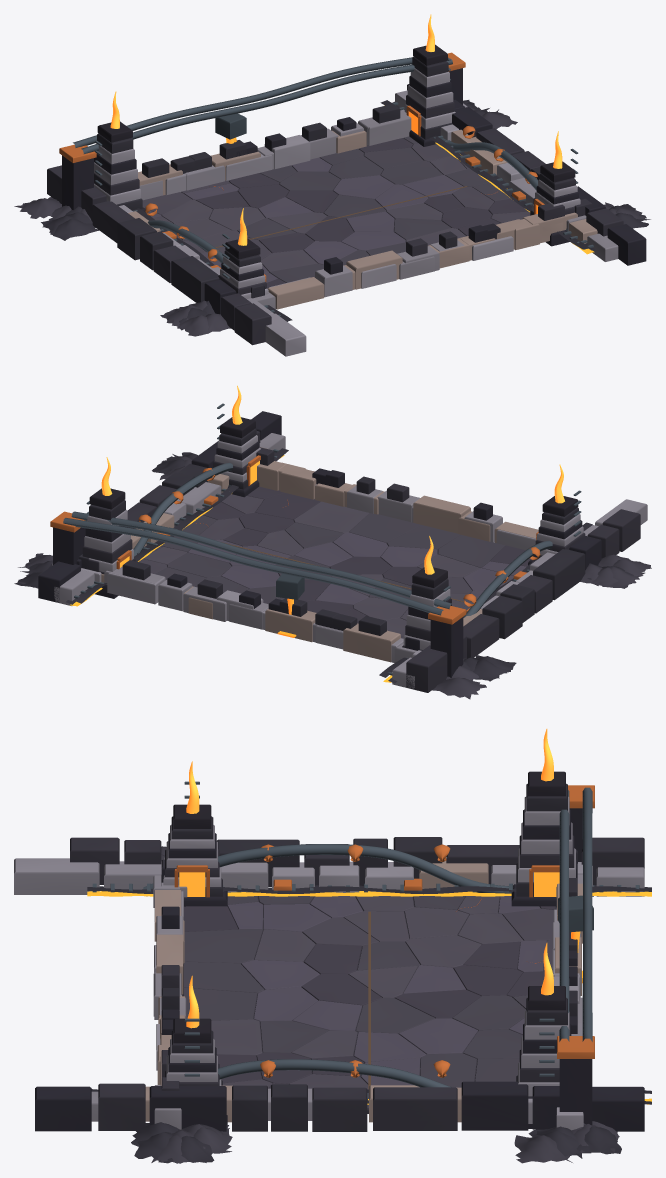
3 renders of one model, top to bottom at view 1: azimuth 30°, elevation 25°; view 2: azimuth 150°, elevation 25°; view 3: azimuth 270°, elevation 25°, orthographic. The views are drawn at different scales.
Visible parts, largest first — view 1: courtyard--stone-pale, boundary-masonry--stone-pale, boundary-masonry--stone-dark, furnace-towers--stone-dark, crucible-gantry--metal, slag-berms--stone-dark, furnace-towers--stone-pale, crucible-gantry--stone-dark, iron-piping--metal, lava-channels--stone-dark, furnace-towers--emissive, crucible-gantry--trim-brass (+2 smaller); view 2: courtyard--stone-pale, boundary-masonry--stone-pale, boundary-masonry--stone-dark, furnace-towers--stone-dark, crucible-gantry--metal, slag-berms--stone-dark, furnace-towers--stone-pale, crucible-gantry--stone-dark, iron-piping--metal, lava-channels--stone-dark, furnace-towers--emissive, crucible-gantry--trim-brass (+1 smaller); view 3: courtyard--stone-pale, boundary-masonry--stone-dark, boundary-masonry--stone-pale, furnace-towers--stone-dark, slag-berms--stone-dark, furnace-towers--stone-pale, iron-piping--metal, crucible-gantry--metal, furnace-towers--emissive, crucible-gantry--stone-dark, lava-channels--stone-dark, lava-channels--emissive (+5 smaller).
Part boxes in pixels (x1,y1,x2,y2): courtyard--stone-pale: (142, 136, 530, 288); boundary-masonry--stone-pale: (119, 90, 618, 356); boundary-masonry--stone-dark: (47, 84, 646, 345); furnace-towers--stone-dark: (94, 44, 578, 294); crucible-gantry--metal: (73, 57, 452, 153); slag-berms--stone-dark: (14, 100, 650, 336); furnace-towers--stone-pale: (94, 68, 580, 298); crucible-gantry--stone-dark: (62, 68, 462, 209); iron-piping--metal: (148, 138, 570, 263); lava-channels--stone-dark: (132, 100, 595, 321); furnace-towers--emissive: (110, 14, 562, 245); crucible-gantry--trim-brass: (59, 52, 465, 162); courtyard--stone-pale: (138, 486, 530, 638); boundary-masonry--stone-pale: (52, 433, 647, 689); boundary-masonry--stone-dark: (38, 411, 640, 692); furnace-towers--stone-dark: (82, 417, 585, 650); crucible-gantry--metal: (63, 511, 451, 615); slag-berms--stone-dark: (14, 452, 651, 699); furnace-towers--stone-pale: (84, 435, 583, 649); crucible-gantry--stone-dark: (53, 527, 463, 677); iron-piping--metal: (91, 462, 552, 617); lava-channels--stone-dark: (66, 448, 592, 683); furnace-towers--emissive: (101, 385, 564, 574); crucible-gantry--trim-brass: (50, 511, 466, 624); courtyard--stone-pale: (182, 896, 556, 1113); boundary-masonry--stone-dark: (35, 837, 644, 1131); boundary-masonry--stone-pale: (14, 858, 644, 1130); furnace-towers--stone-dark: (165, 771, 574, 1128); slag-berms--stone-dark: (131, 846, 621, 1163); furnace-towers--stone-pale: (163, 796, 575, 1096); iron-piping--metal: (143, 844, 594, 1087); crucible-gantry--metal: (558, 787, 593, 1041); furnace-towers--emissive: (179, 729, 559, 1028); crucible-gantry--stone-dark: (559, 808, 592, 1125); lava-channels--stone-dark: (87, 885, 651, 1104); lava-channels--emissive: (87, 891, 651, 1104).
Bounding box in the file's own units: 20.87 × 5.8 × 17.63.
